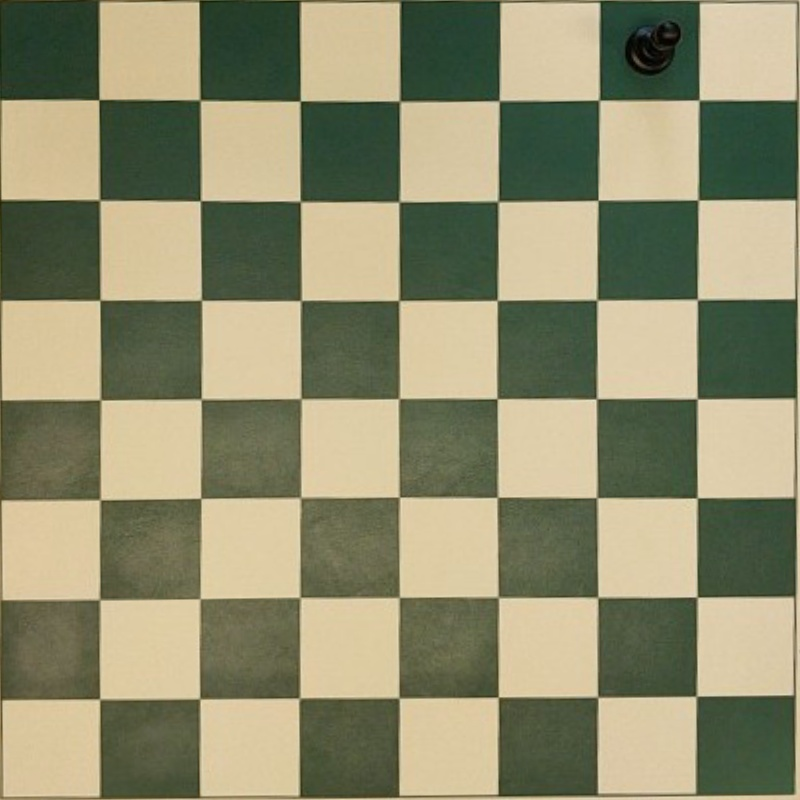black-pawn: (626, 19, 682, 73)
